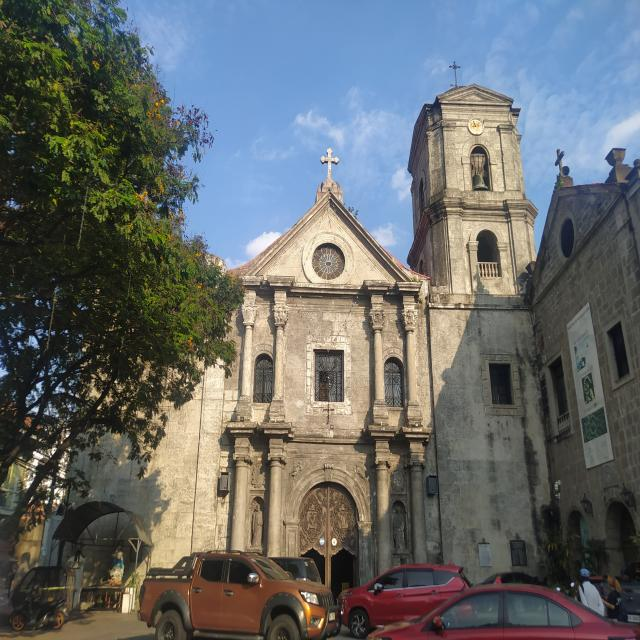San Agustin Church: (161, 53, 565, 640)
